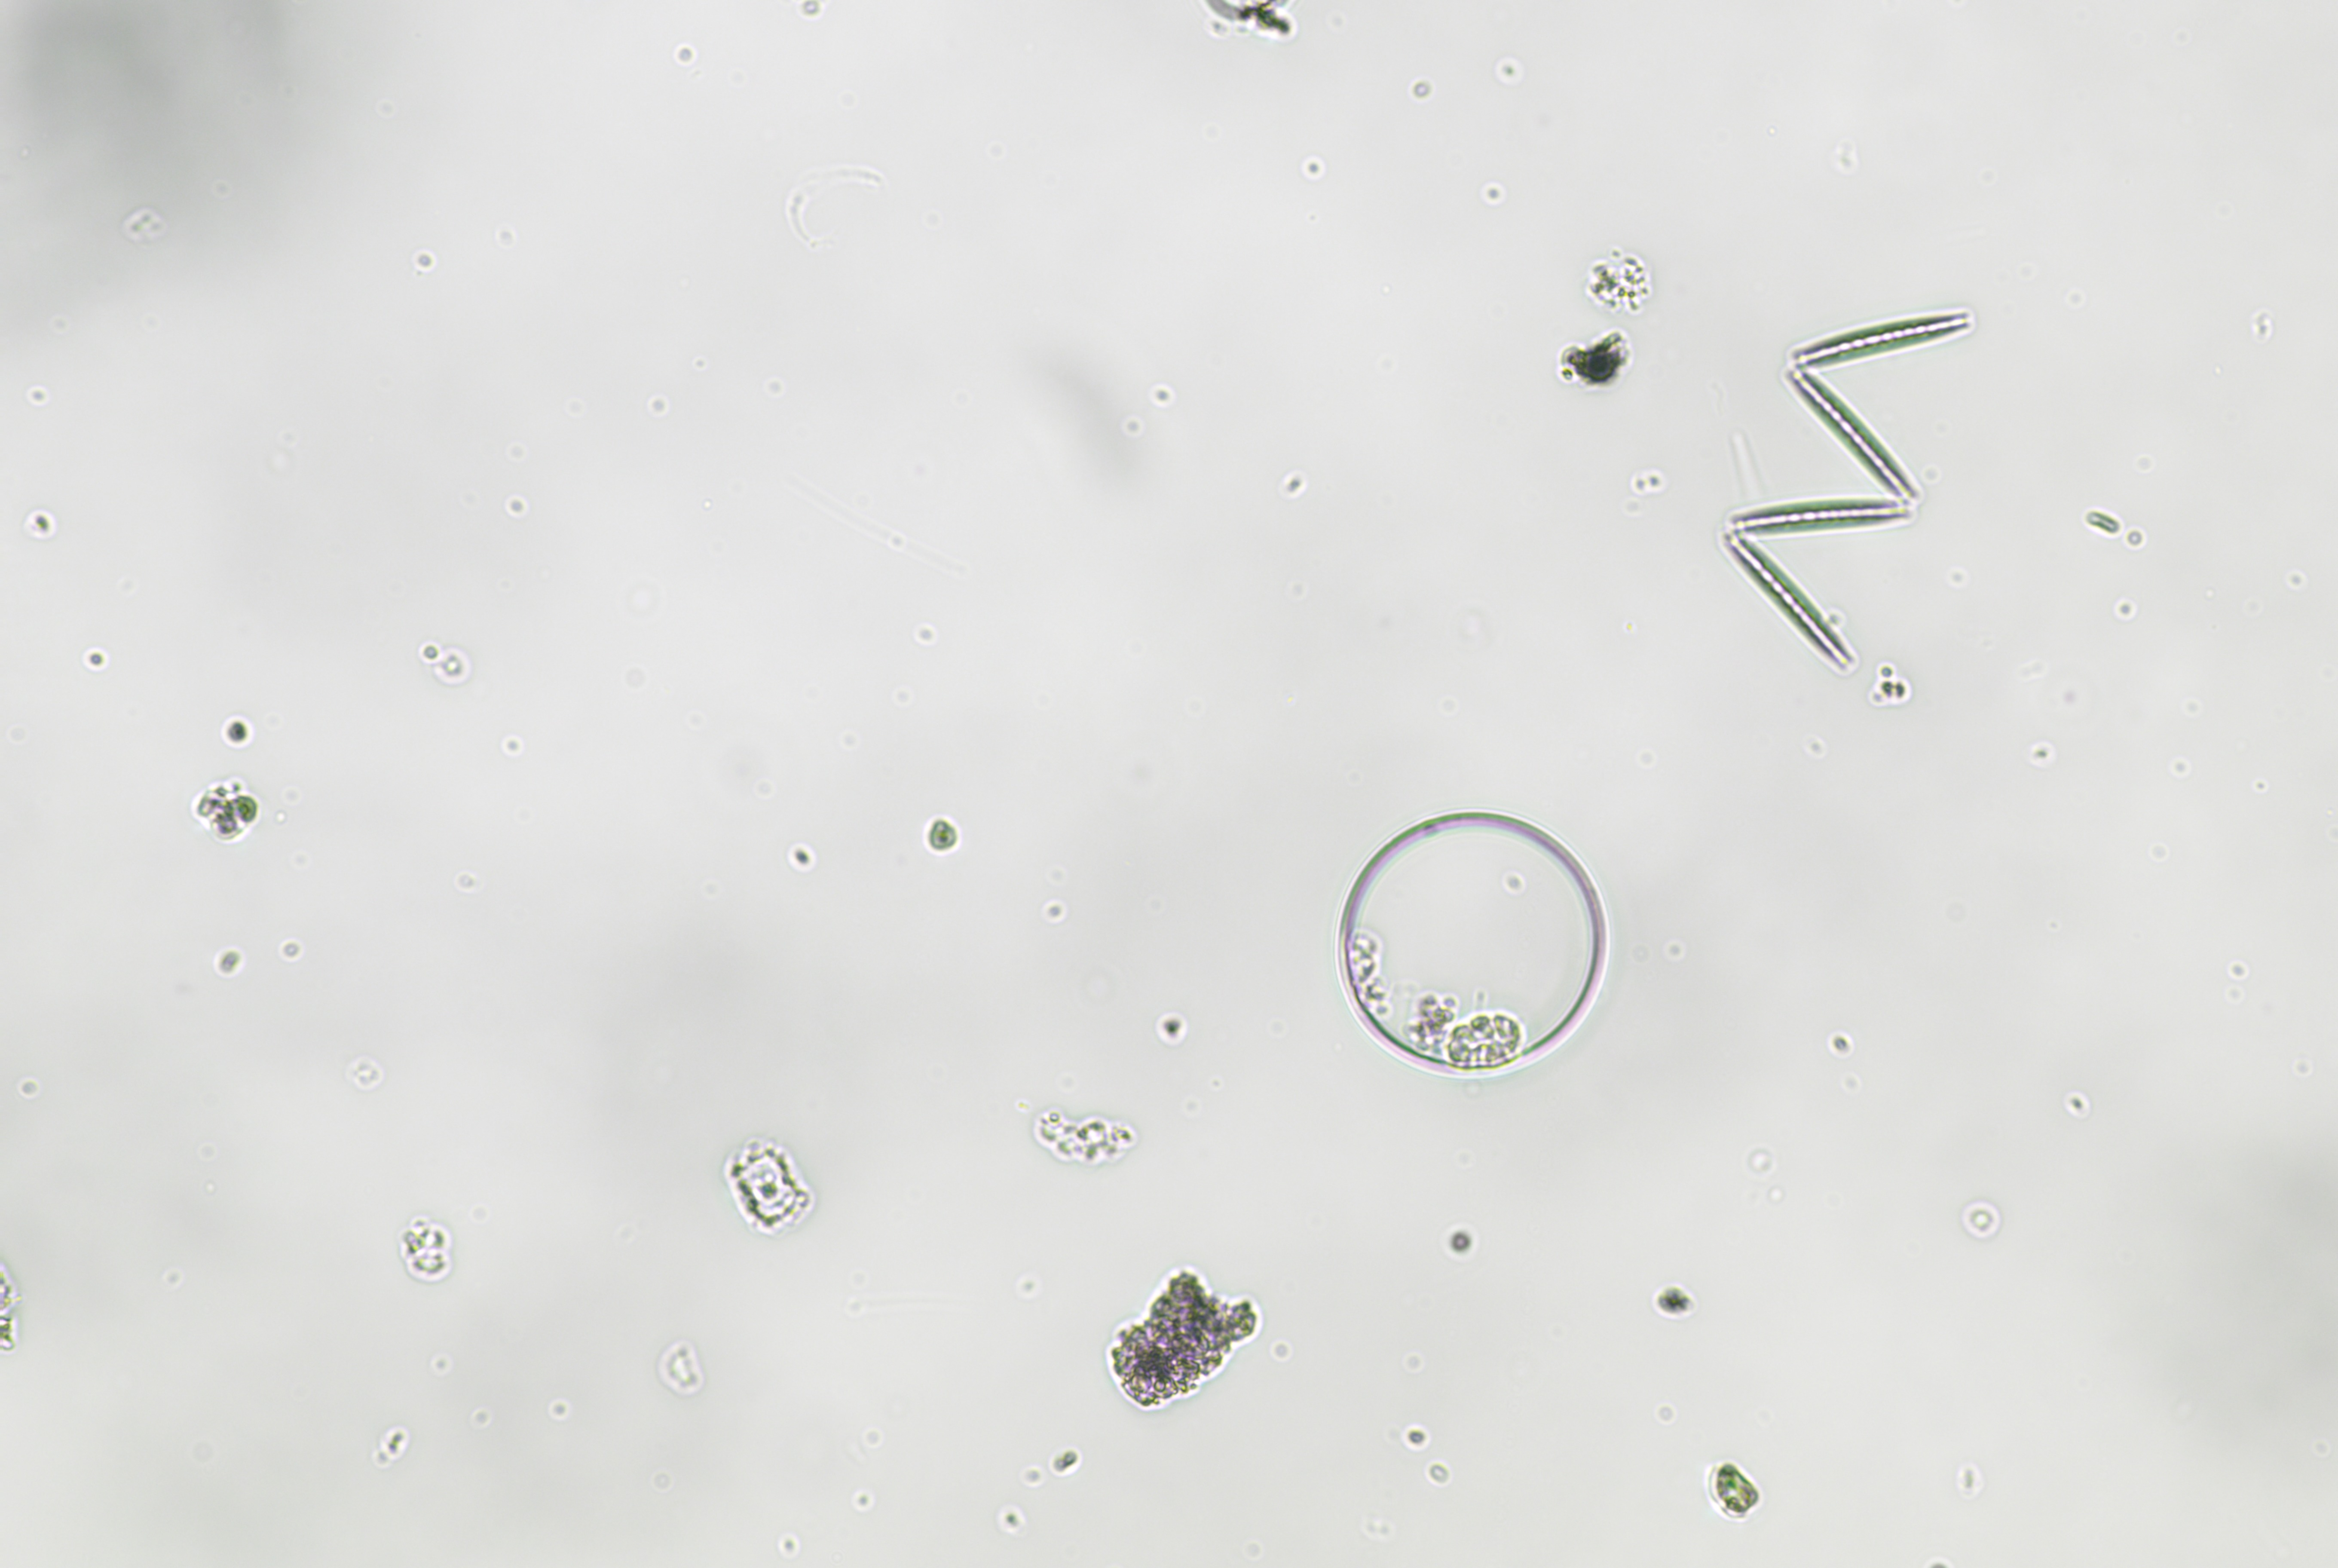thalassionema nitzschioides: (1717, 275, 1981, 677)
